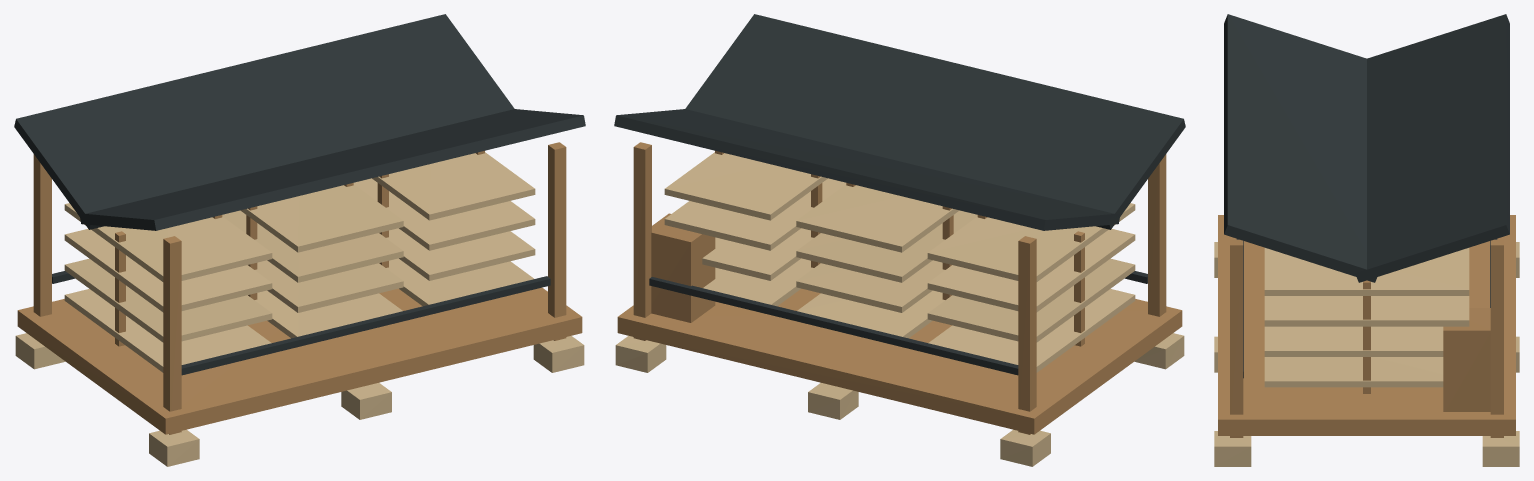
The model's file is wood-drying-shed.source.glb.
The picture shows the model from 3 angles, left to right: view 1: azimuth 30°, elevation 25°; view 2: azimuth 150°, elevation 25°; view 3: azimuth 270°, elevation 25°; orthographic projection.
Visible parts, largest first — view 1: wood-drying-shed-shallow-shed-roof--0.88-mesh, wood-drying-shed-raised-drying-floor-frame-mesh, wood-drying-shed-shallow-shed-roof-0.88-mesh, wood-drying-shed-empty-slatted-shelf-2.05-2.4-mesh, wood-drying-shed-empty-slatted-shelf-0-2.4-mesh, wood-drying-shed-empty-slatted-shelf--2.05-2.4-mesh, wood-drying-shed-empty-slatted-shelf--2.05-1.5-mesh, wood-drying-shed-empty-slatted-shelf--2.05-1.95-mesh, wood-drying-shed-empty-slatted-shelf--2.05-1.05-mesh, wood-drying-shed-empty-slatted-shelf-0-1.95-mesh, wood-drying-shed-empty-slatted-shelf-2.05-1.95-mesh, wood-drying-shed-simple-drying-rail-1.7-mesh (+12 smaller); view 2: wood-drying-shed-shallow-shed-roof-0.88-mesh, wood-drying-shed-raised-drying-floor-frame-mesh, wood-drying-shed-shallow-shed-roof--0.88-mesh, wood-drying-shed-empty-slatted-shelf-2.05-2.4-mesh, wood-drying-shed-empty-slatted-shelf-0-2.4-mesh, wood-drying-shed-empty-slatted-shelf--2.05-2.4-mesh, wood-drying-shed-empty-slatted-shelf--2.05-1.5-mesh, wood-drying-shed-empty-slatted-shelf--2.05-1.95-mesh, wood-drying-shed-locked-teal-service-cabinet-mesh, wood-drying-shed-empty-slatted-shelf--2.05-1.05-mesh, wood-drying-shed-empty-slatted-shelf-0-1.95-mesh, wood-drying-shed-empty-slatted-shelf-2.05-1.95-mesh (+13 smaller); view 3: wood-drying-shed-shallow-shed-roof--0.88-mesh, wood-drying-shed-shallow-shed-roof-0.88-mesh, wood-drying-shed-raised-drying-floor-frame-mesh, wood-drying-shed-empty-slatted-shelf-2.05-2.4-mesh, wood-drying-shed-empty-slatted-shelf-2.05-1.95-mesh, wood-drying-shed-empty-slatted-shelf-2.05-1.05-mesh, wood-drying-shed-empty-slatted-shelf-2.05-1.5-mesh, wood-drying-shed-locked-teal-service-cabinet-mesh, wood-drying-shed-slim-timber-post-3--1.75-mesh, wood-drying-shed-slim-timber-post-3-1.75-mesh, wood-drying-shed-pale-stone-footing-3--1.8-mesh, wood-drying-shed-pale-stone-footing-3-1.8-mesh (+1 smaller).
Boxes of the visible parts, left/top/right/bottom form: wood-drying-shed-shallow-shed-roof--0.88-mesh: left=14, top=14, right=514, bottom=229; wood-drying-shed-raised-drying-floor-frame-mesh: left=17, top=287, right=582, bottom=434; wood-drying-shed-shallow-shed-roof-0.88-mesh: left=79, top=109, right=585, bottom=230; wood-drying-shed-empty-slatted-shelf-2.05-2.4-mesh: left=372, top=152, right=535, bottom=220; wood-drying-shed-empty-slatted-shelf-0-2.4-mesh: left=240, top=184, right=403, bottom=252; wood-drying-shed-empty-slatted-shelf--2.05-2.4-mesh: left=64, top=203, right=272, bottom=281; wood-drying-shed-empty-slatted-shelf--2.05-1.5-mesh: left=64, top=258, right=272, bottom=342; wood-drying-shed-empty-slatted-shelf--2.05-1.95-mesh: left=64, top=229, right=272, bottom=312; wood-drying-shed-empty-slatted-shelf--2.05-1.05-mesh: left=64, top=289, right=271, bottom=372; wood-drying-shed-empty-slatted-shelf-0-1.95-mesh: left=222, top=210, right=403, bottom=282; wood-drying-shed-empty-slatted-shelf-2.05-1.95-mesh: left=353, top=178, right=535, bottom=250; wood-drying-shed-simple-drying-rail-1.7-mesh: left=181, top=276, right=550, bottom=375; wood-drying-shed-shallow-shed-roof-0.88-mesh: left=685, top=14, right=1185, bottom=229; wood-drying-shed-raised-drying-floor-frame-mesh: left=617, top=288, right=1182, bottom=434; wood-drying-shed-shallow-shed-roof--0.88-mesh: left=614, top=109, right=1120, bottom=230; wood-drying-shed-empty-slatted-shelf-2.05-2.4-mesh: left=664, top=152, right=827, bottom=220; wood-drying-shed-empty-slatted-shelf-0-2.4-mesh: left=796, top=184, right=959, bottom=252; wood-drying-shed-empty-slatted-shelf--2.05-2.4-mesh: left=927, top=203, right=1135, bottom=281; wood-drying-shed-empty-slatted-shelf--2.05-1.5-mesh: left=927, top=258, right=1135, bottom=342; wood-drying-shed-empty-slatted-shelf--2.05-1.95-mesh: left=927, top=229, right=1135, bottom=312; wood-drying-shed-locked-teal-service-cabinet-mesh: left=651, top=213, right=715, bottom=322; wood-drying-shed-empty-slatted-shelf--2.05-1.05-mesh: left=928, top=289, right=1135, bottom=372; wood-drying-shed-empty-slatted-shelf-0-1.95-mesh: left=796, top=210, right=977, bottom=282; wood-drying-shed-empty-slatted-shelf-2.05-1.95-mesh: left=664, top=178, right=846, bottom=250; wood-drying-shed-shallow-shed-roof--0.88-mesh: left=1355, top=14, right=1509, bottom=282; wood-drying-shed-shallow-shed-roof-0.88-mesh: left=1224, top=14, right=1378, bottom=282; wood-drying-shed-raised-drying-floor-frame-mesh: left=1218, top=215, right=1515, bottom=435; wood-drying-shed-empty-slatted-shelf-2.05-2.4-mesh: left=1264, top=248, right=1469, bottom=295; wood-drying-shed-empty-slatted-shelf-2.05-1.95-mesh: left=1264, top=296, right=1469, bottom=326; wood-drying-shed-empty-slatted-shelf-2.05-1.05-mesh: left=1264, top=357, right=1443, bottom=387; wood-drying-shed-empty-slatted-shelf-2.05-1.5-mesh: left=1264, top=326, right=1443, bottom=356; wood-drying-shed-locked-teal-service-cabinet-mesh: left=1443, top=308, right=1490, bottom=411; wood-drying-shed-slim-timber-post-3--1.75-mesh: left=1490, top=239, right=1503, bottom=437; wood-drying-shed-slim-timber-post-3-1.75-mesh: left=1230, top=239, right=1243, bottom=437; wood-drying-shed-pale-stone-footing-3--1.8-mesh: left=1482, top=431, right=1519, bottom=466; wood-drying-shed-pale-stone-footing-3-1.8-mesh: left=1214, top=431, right=1251, bottom=466.
Size of the model in its own units: 6.7 by 3.63 by 4.1.
